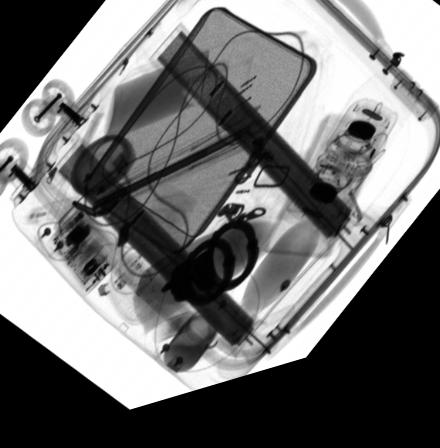HandCuffs: (159, 233, 259, 317)
